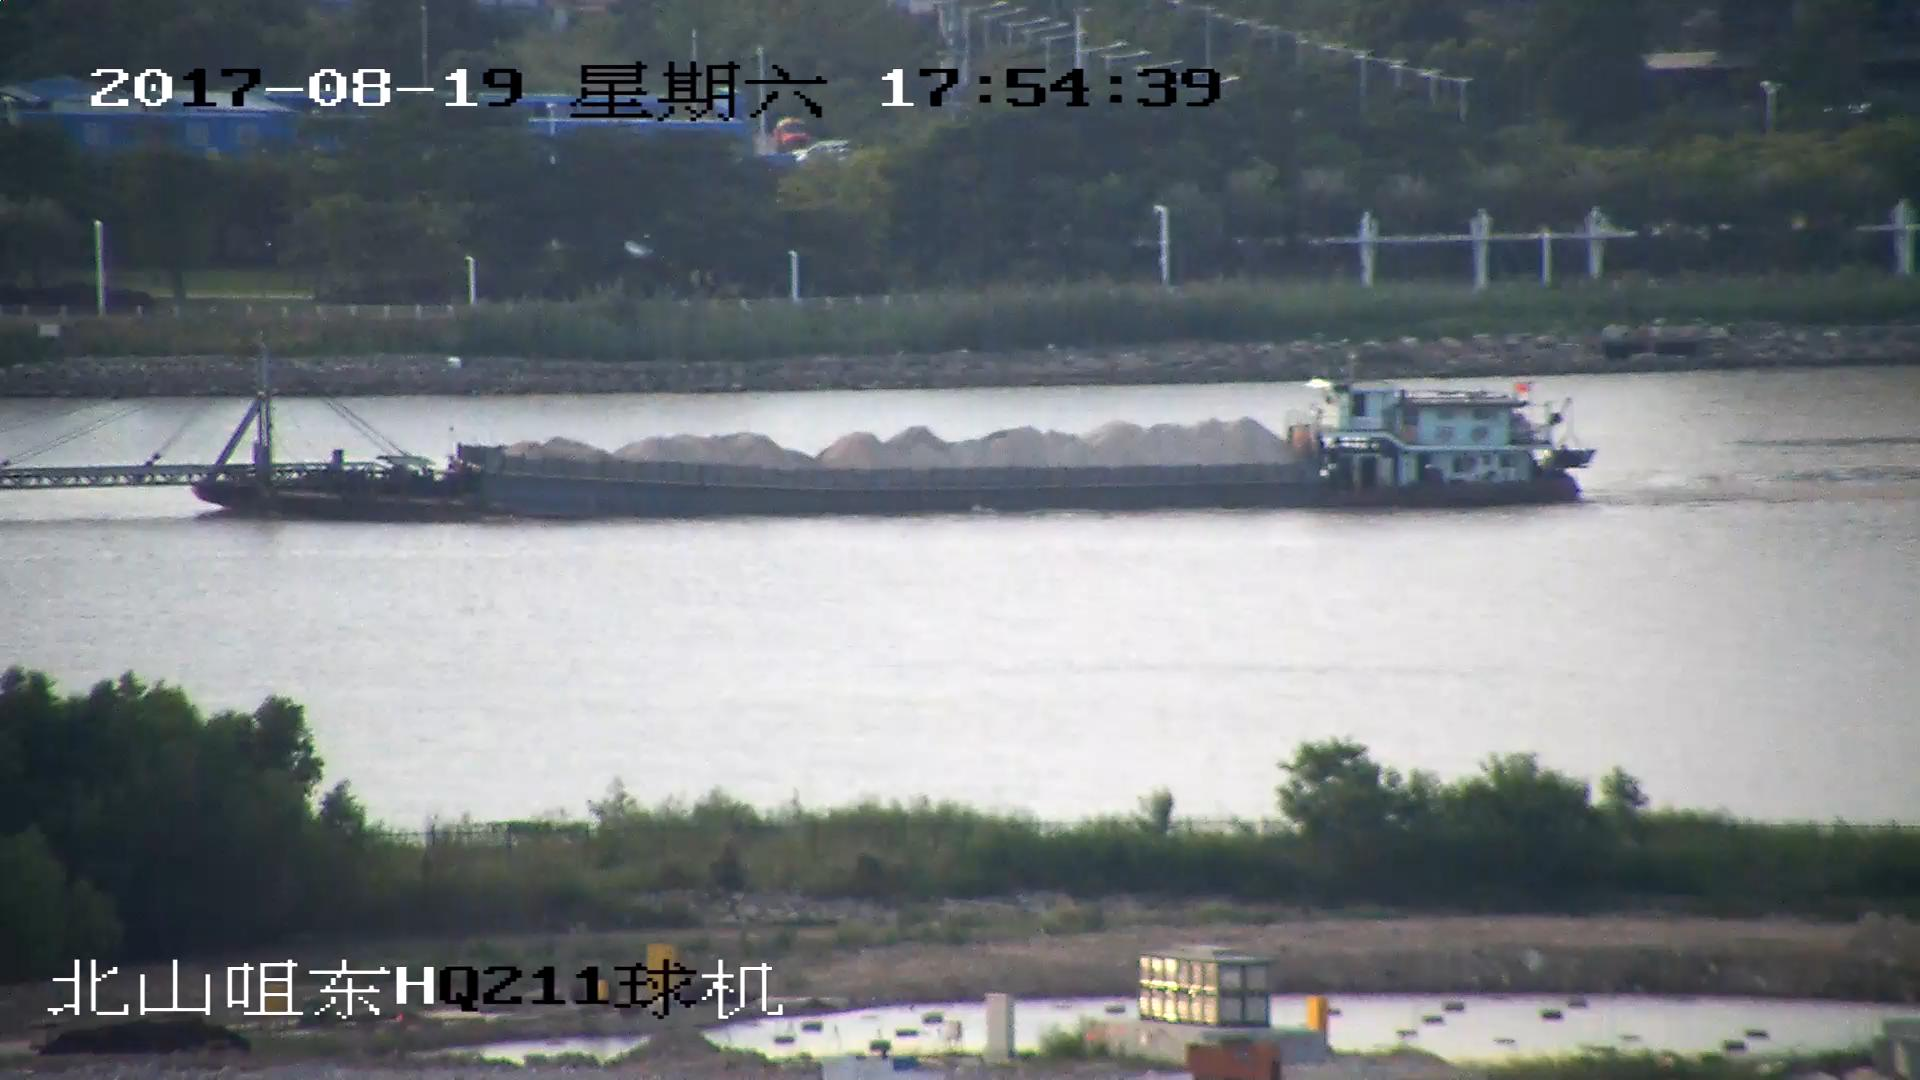ore carrier: (1, 325, 1596, 526)
